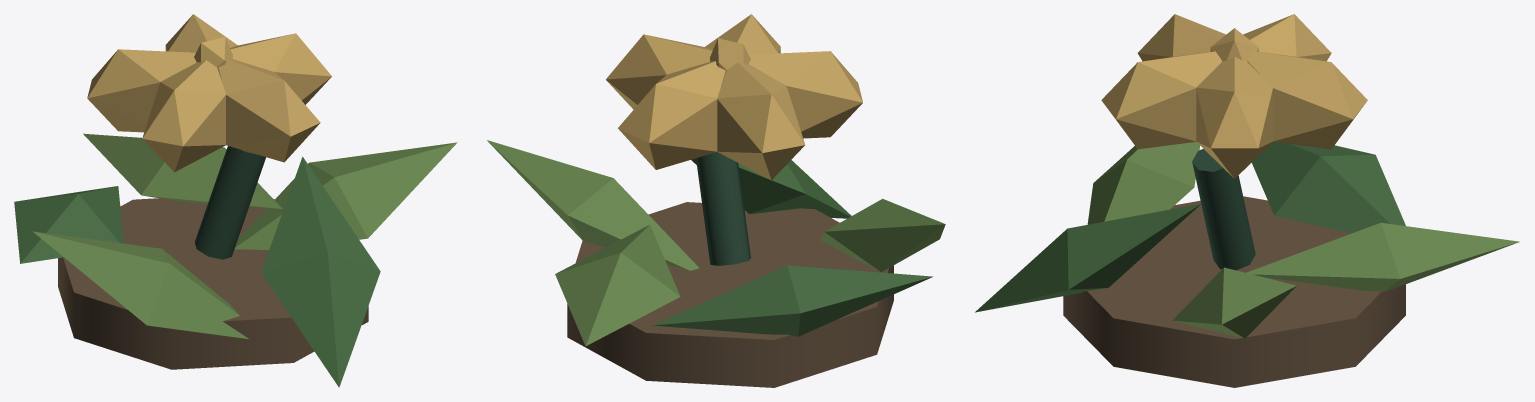
Rendered from plant-pumpkin-2.glb.
3 renders of one model, left to right at view 1: azimuth 30°, elevation 25°; view 2: azimuth 150°, elevation 25°; view 3: azimuth 270°, elevation 25°, orthographic. The views are drawn at different scales.
Parts seen in each view (by area): view 1: plant-pumpkin-2-visual; view 2: plant-pumpkin-2-visual; view 3: plant-pumpkin-2-visual.
Part boxes in pixels (x1,y1,x2,y2): plant-pumpkin-2-visual: (14, 14, 457, 387); plant-pumpkin-2-visual: (487, 14, 945, 387); plant-pumpkin-2-visual: (975, 14, 1519, 387).
Bounding box in the file's own units: 0.4958 × 0.29 × 0.5102.
